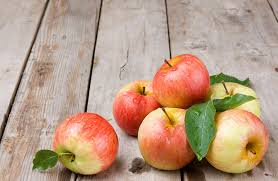apple: (52, 114, 120, 175), (209, 111, 275, 172), (136, 110, 201, 170), (113, 81, 172, 134), (153, 57, 210, 107)
